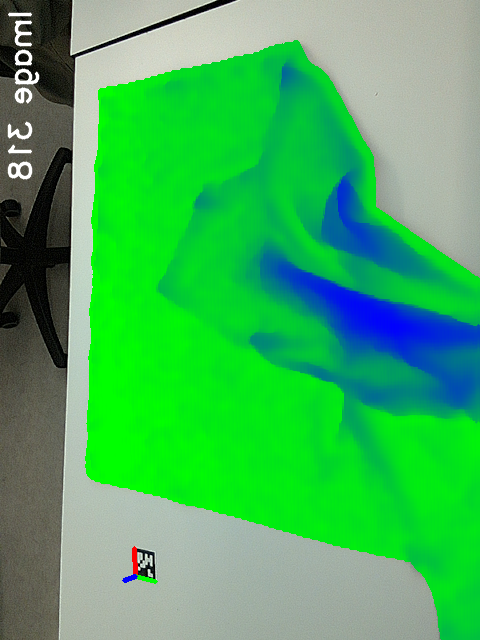V: (148, 252, 202, 312)
